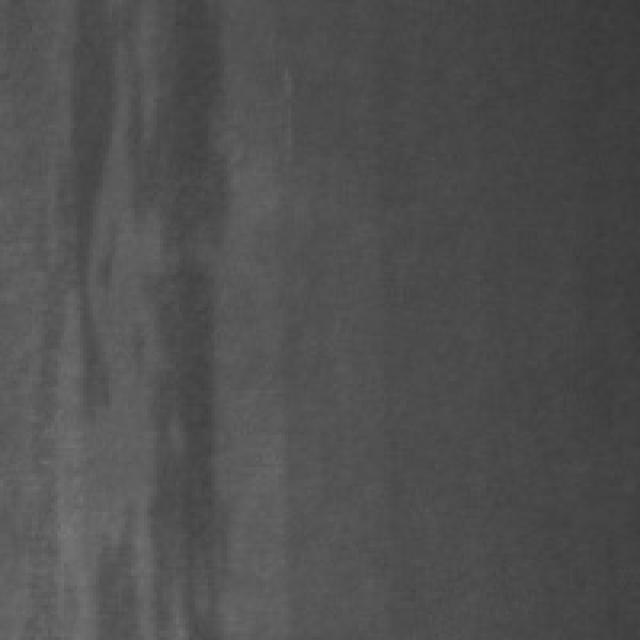inclusion: (71, 0, 234, 630)
